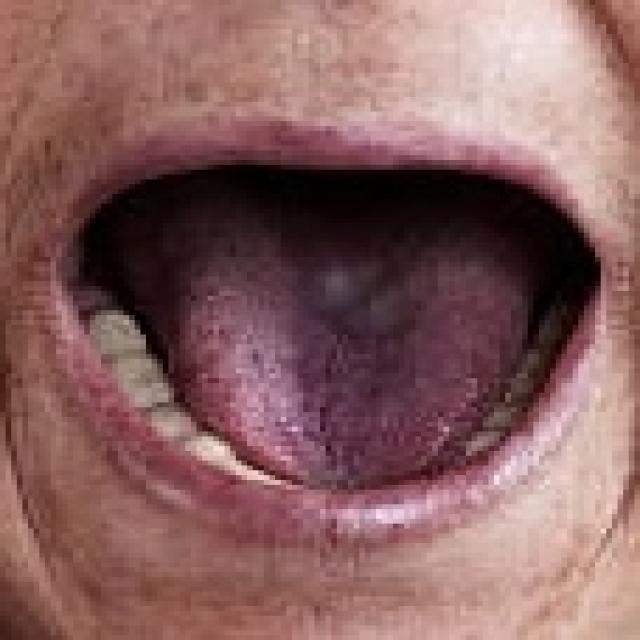open-mouth: (34, 107, 624, 548)
